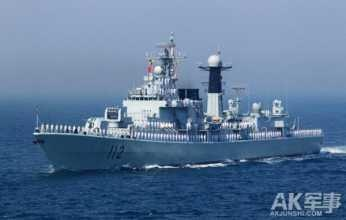warship: (30, 39, 331, 173)
